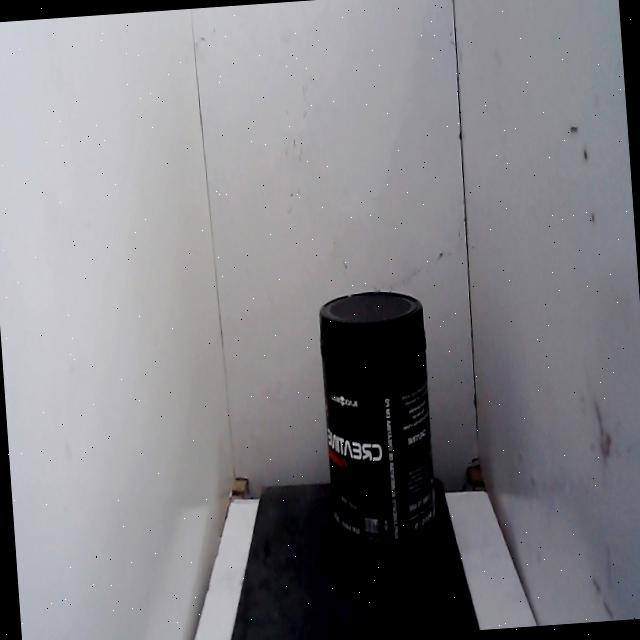plastico: (304, 268, 447, 565)
